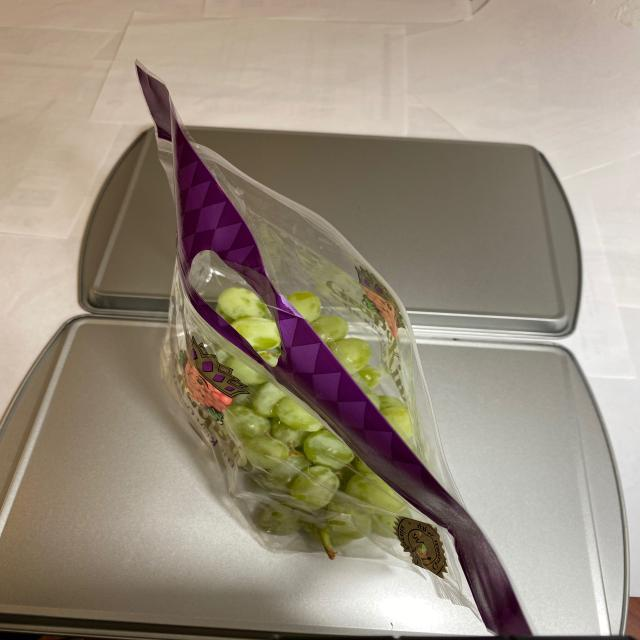grapes: (199, 264, 422, 552)
